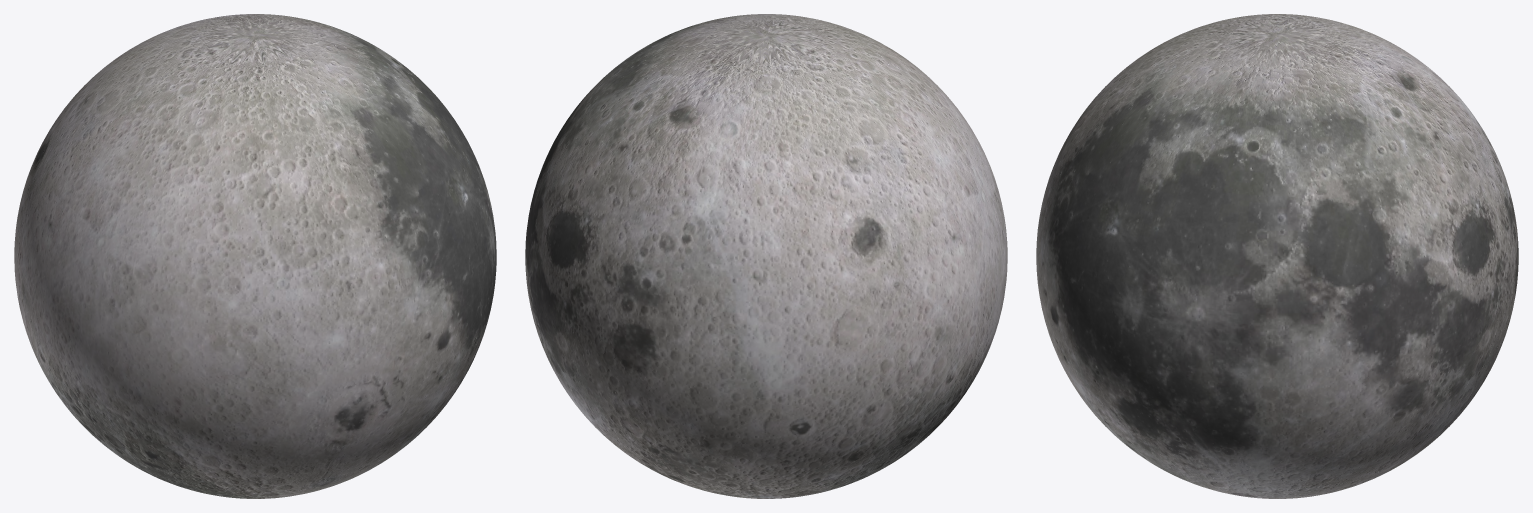
File: Moon.glb
3 renders of one model, left to right at view 1: azimuth 30°, elevation 25°; view 2: azimuth 150°, elevation 25°; view 3: azimuth 270°, elevation 25°, orthographic.
Visible parts, largest first — view 1: Moon; view 2: Moon; view 3: Moon.
Boxes of the visible parts, x1,y1,x2,y2 form: Moon: [14, 14, 496, 498]; Moon: [525, 14, 1007, 498]; Moon: [1036, 14, 1518, 498].
Bounding box in the file's own units: 1.97 × 2 × 1.97.
Materials: 1 (1 with a texture image).
